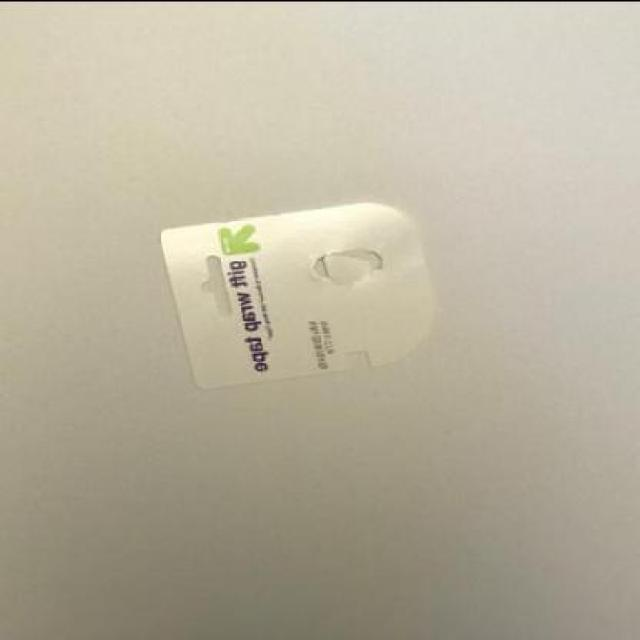CARDBOARD: (156, 198, 430, 384)
PAPER: (158, 199, 432, 386)
